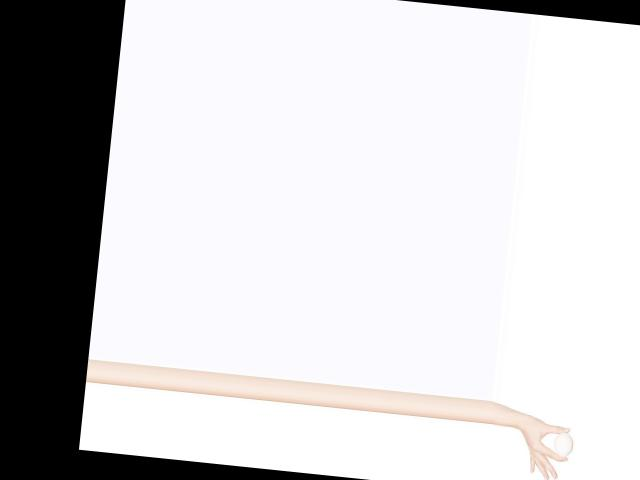egg: (553, 431, 575, 457)
